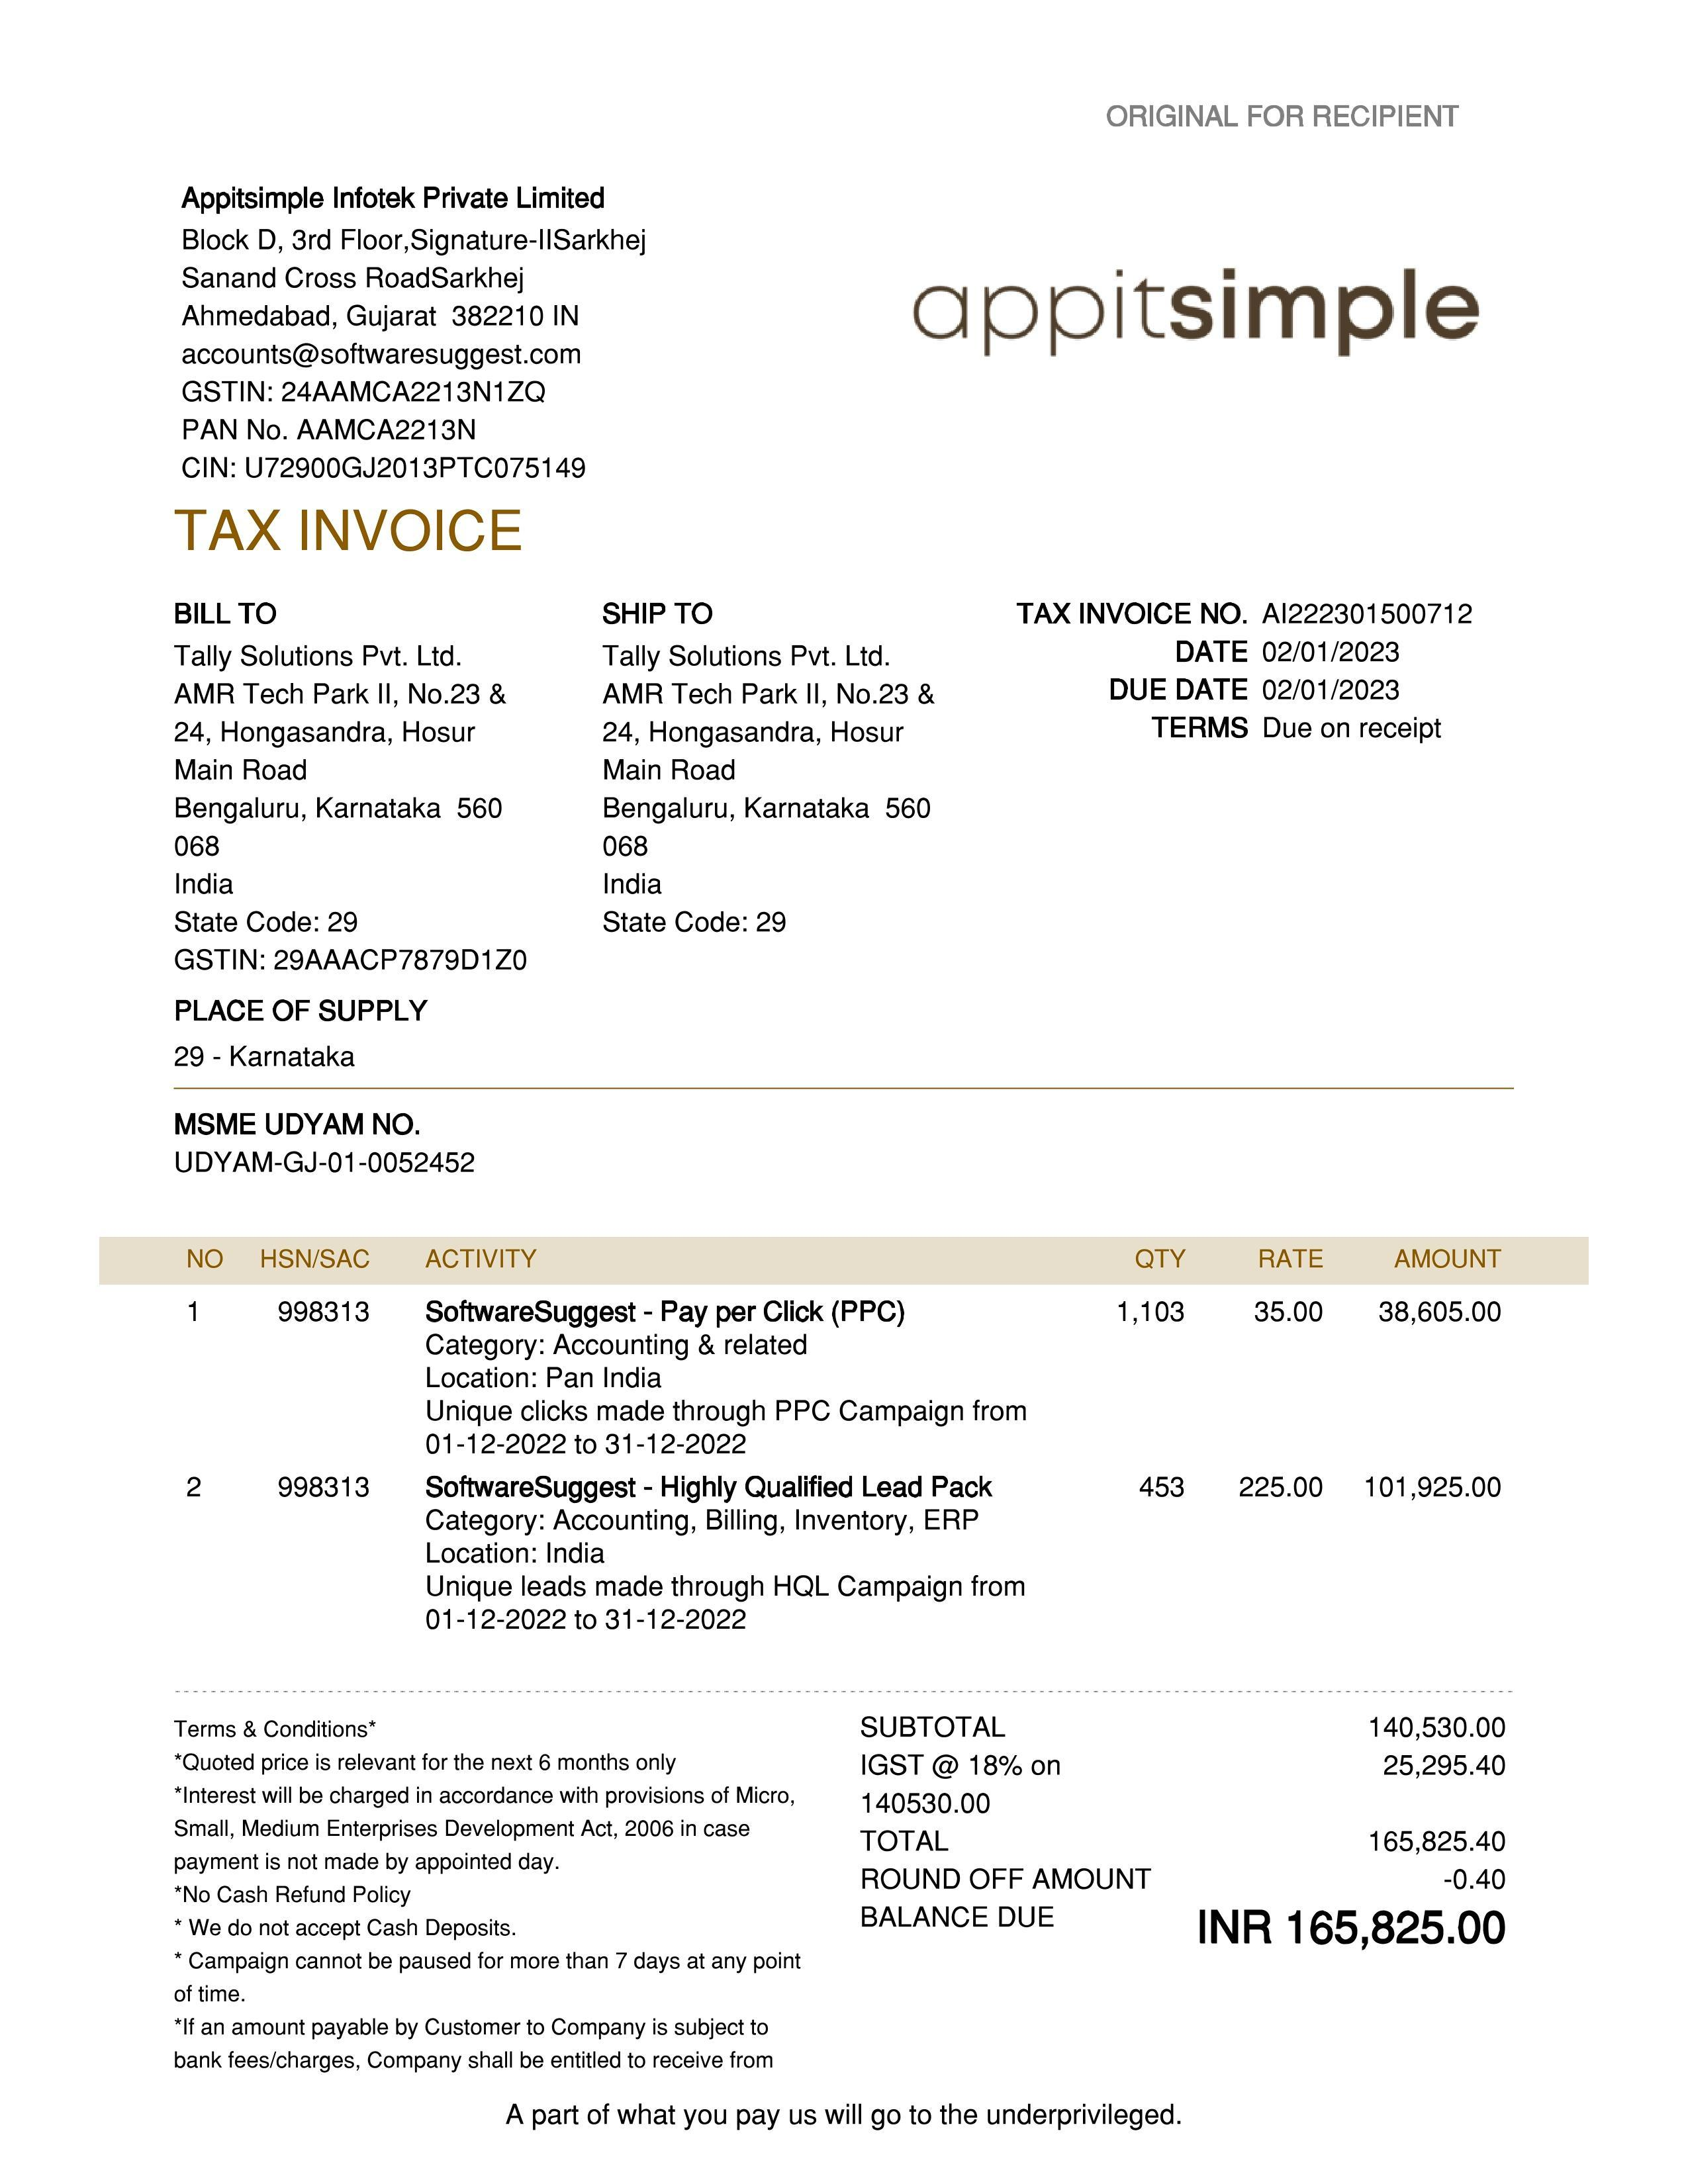InvoiceDate: (1252, 633, 1417, 675)
InvoiceNumber: (1248, 599, 1488, 636)
TotalAmount: (1183, 1897, 1507, 1969)
